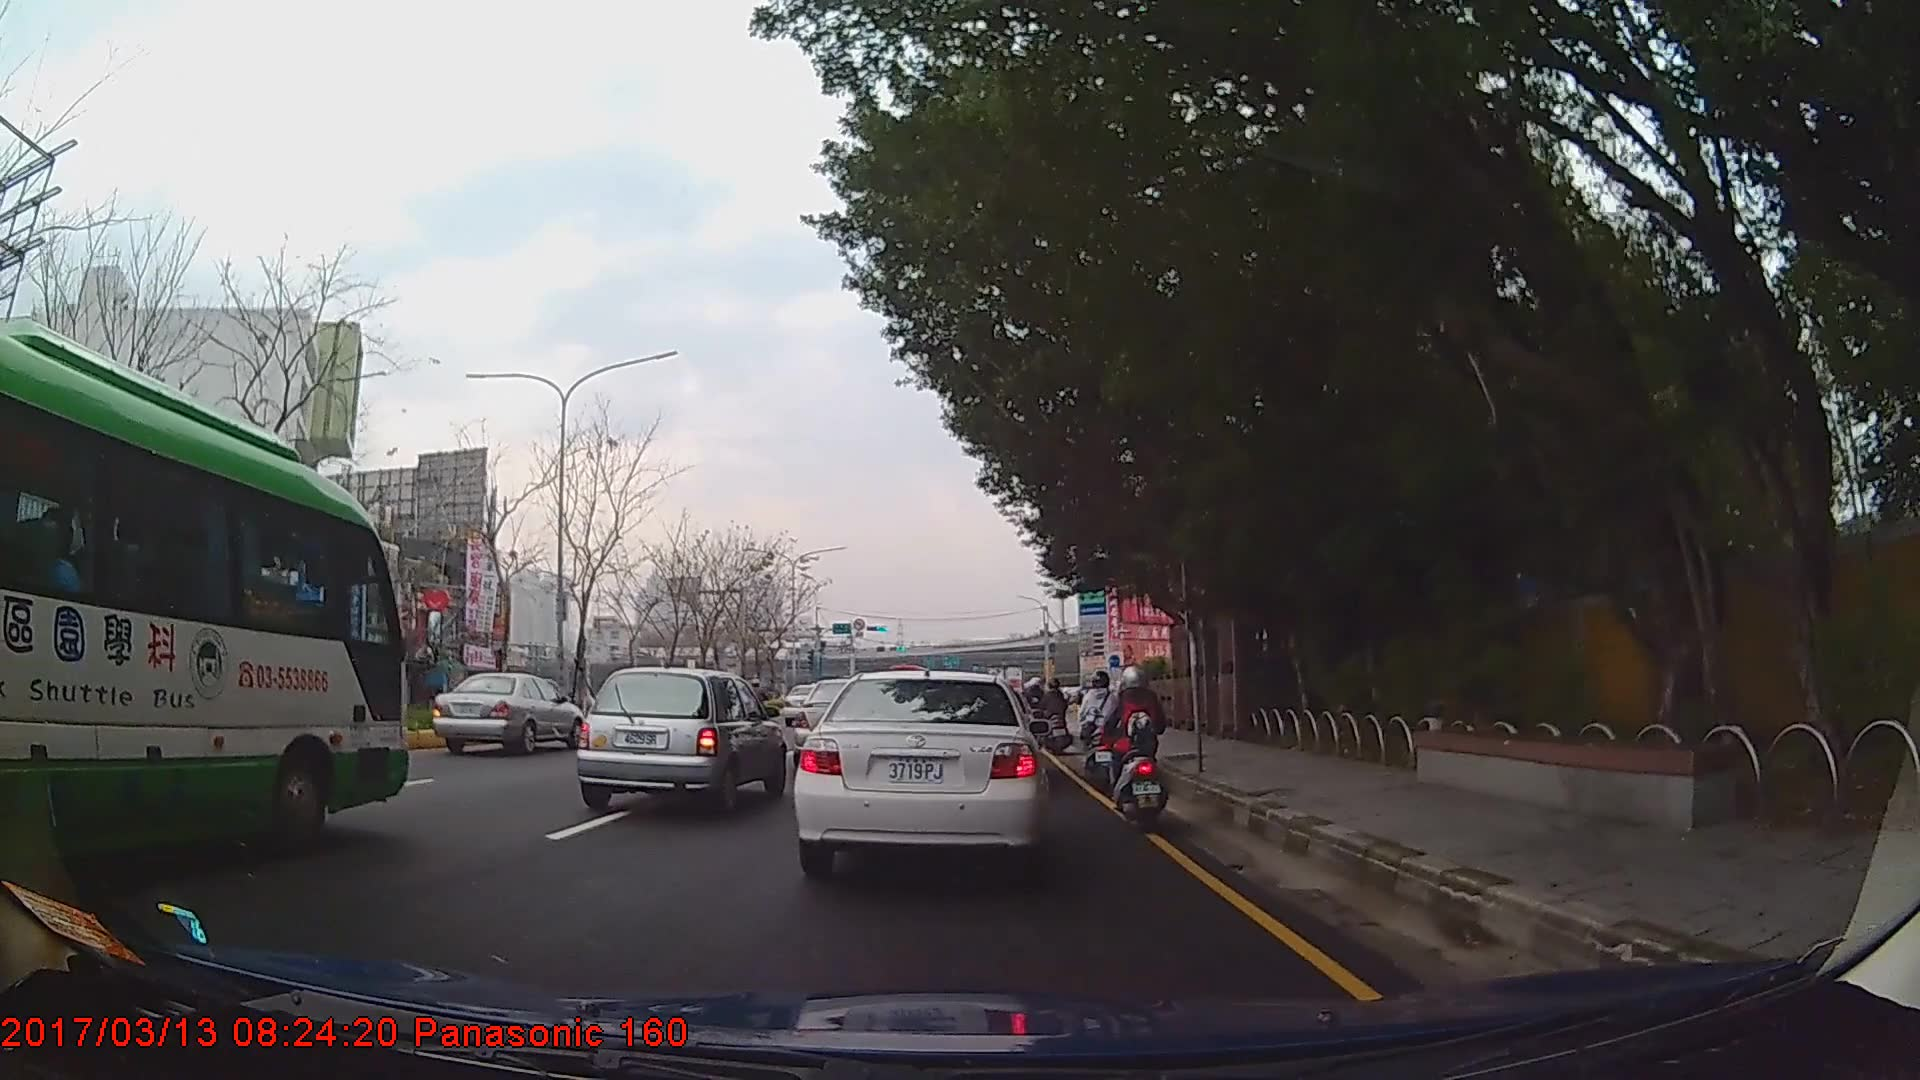rider: (1104, 661, 1164, 820), (1080, 669, 1121, 790), (1040, 676, 1067, 738)
vehicle: (0, 316, 412, 889), (790, 671, 1045, 872), (578, 666, 786, 815), (432, 670, 582, 759)
